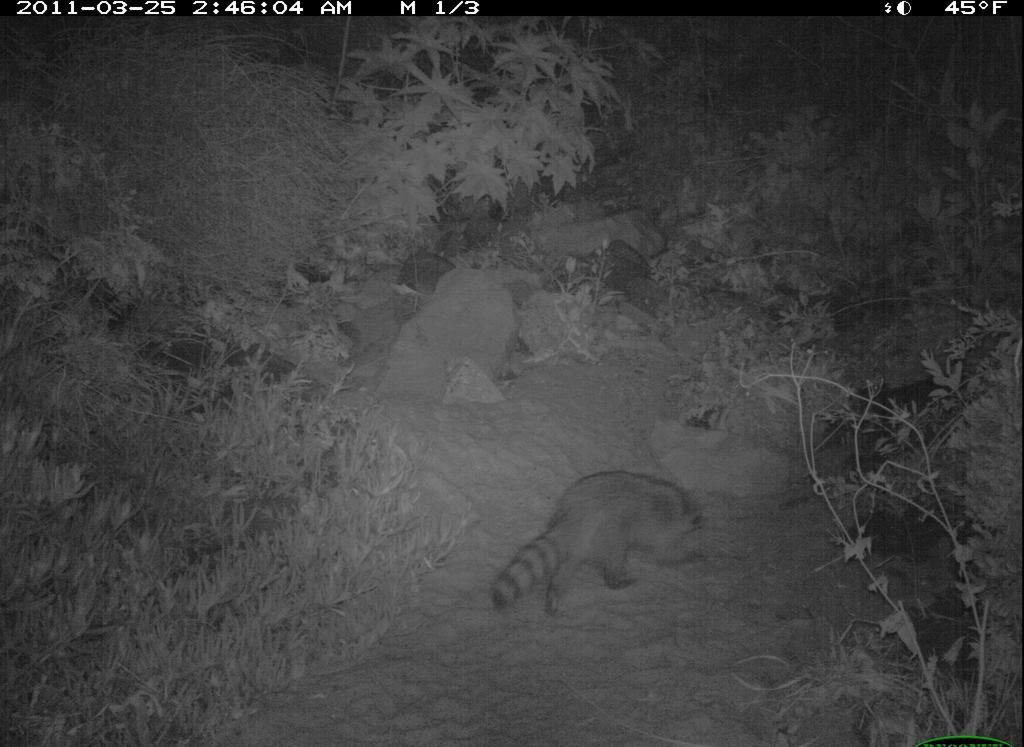raccoon: (482, 460, 715, 625)
